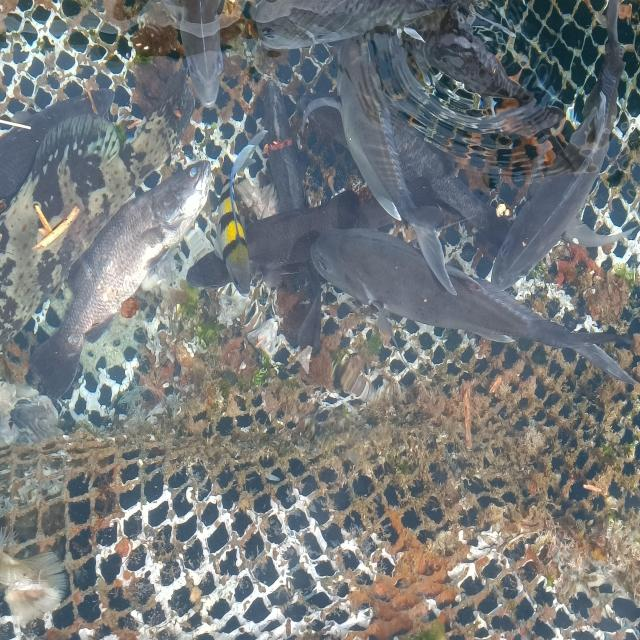ikan: (308, 225, 638, 388), (25, 157, 213, 407), (297, 31, 466, 296), (488, 0, 628, 291), (186, 128, 268, 298)
